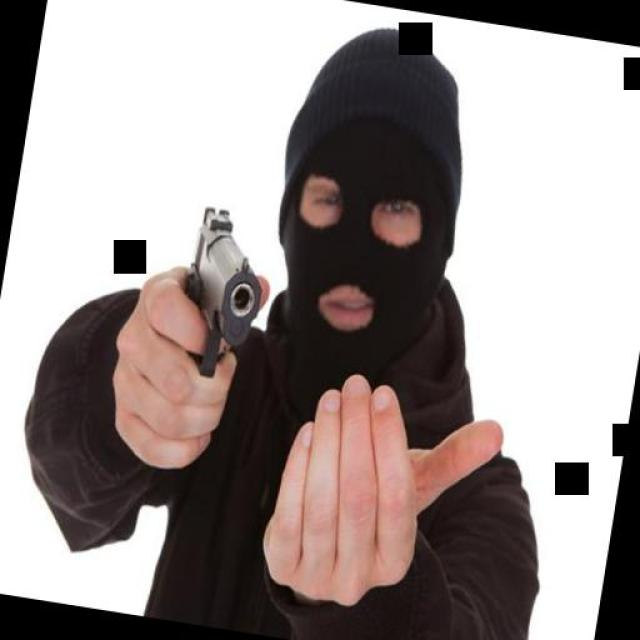gun: (166, 202, 272, 382)
